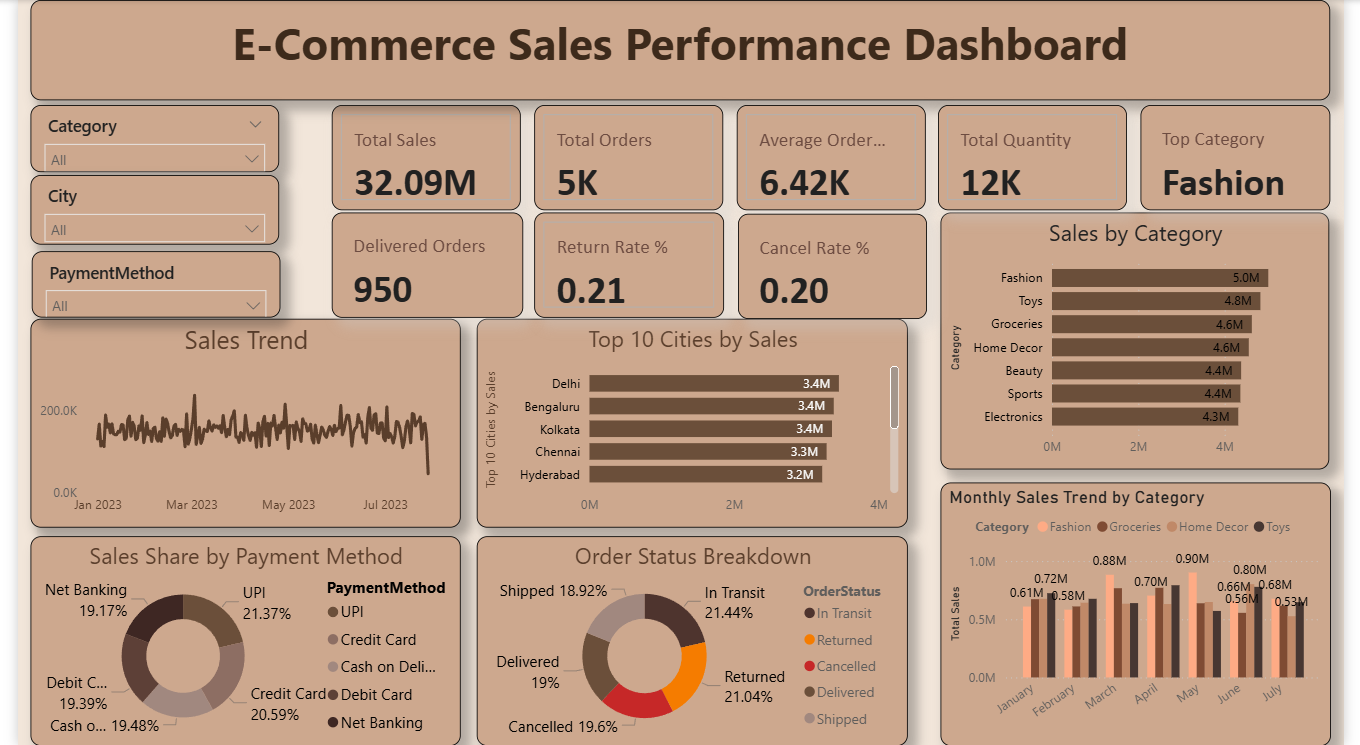

What the dashboard file says about the page in this screenshot:
{"tool":"powerbi","page":{"name":"Page 1","canvas":[1280,720],"ordinal":0},"visuals":[{"type":"cardVisual","fields":{"Data":["M_Measures.Total Sales"]},"box":[303.3,101.5,182.2,101.5],"z":0},{"type":"lineChart","title":"Sales Trend","fields":{"Y":["M_Measures.Total Sales"],"Category":["LocalDateTable_6a9ee4b6-a6cd-4158-997e-67d0aa9aa87c.Date"]},"box":[12.1,307.6,415,201.5],"z":1000},{"type":"clusteredBarChart","title":"Sales by Category","fields":{"Category":["ecommerce_india.Category"],"Y":["M_Measures.Total Sales"]},"box":[890.2,205.4,375.4,248.2],"z":2000},{"type":"clusteredBarChart","title":"Top 10 Cities by Sales","fields":{"Y":["M_Measures.Total Sales"],"Category":["ecommerce_india.City"]},"box":[442.8,307.6,416.2,201.5],"z":3000},{"type":"donutChart","title":"Sales Share by Payment Method","fields":{"Category":["ecommerce_india.PaymentMethod"],"Y":["M_Measures.Total Sales"]},"box":[12.1,517.6,415,202.7],"z":4000},{"type":"donutChart","title":"Order Status Breakdown","fields":{"Y":["M_Measures.Total Orders"],"Category":["ecommerce_india.OrderStatus"]},"box":[442.8,517.6,416.2,202.7],"z":5000},{"type":"textbox","box":[12.2,0,1254.6,96.6],"z":6000},{"type":"cardVisual","fields":{"Data":["M_Measures.Total Orders"]},"box":[498.3,101.5,182.2,101.5],"z":7000},{"type":"cardVisual","fields":{"Data":["M_Measures.Average Order Value"]},"box":[693.3,101.5,182.2,101.5],"z":8000},{"type":"cardVisual","fields":{"Data":["M_Measures.Total Quantity"]},"box":[888.4,101.5,182.2,101.5],"z":9000},{"type":"cardVisual","fields":{"Data":["M_Measures.Top Category"]},"box":[1083.4,101.3,183.4,101.3],"z":10000},{"type":"cardVisual","fields":{"Data":["M_Measures.Delivered Orders"]},"box":[302.8,205.1,184.6,101.3],"z":11000},{"type":"cardVisual","fields":{"Data":["M_Measures.Return Rate %"]},"box":[498.3,205.1,183.4,101.3],"z":12000},{"type":"cardVisual","fields":{"Data":["M_Measures.Cancel Rate %"]},"box":[694.6,206.7,182.2,101.5],"z":13000},{"type":"slicer","fields":{"Values":["ecommerce_india.Category"]},"box":[12.1,101.3,240.1,65.1],"z":14000},{"type":"slicer","fields":{"Values":["ecommerce_india.City"]},"box":[12.1,168.9,240.1,67.6],"z":15000},{"type":"slicer","fields":{"Values":["ecommerce_india.PaymentMethod"]},"box":[13.3,242.5,240.1,63.9],"z":16000},{"type":"clusteredColumnChart","title":"Monthly Sales Trend by Category","fields":{"Series":["ecommerce_india.Category"],"Y":["M_Measures.Total Sales"],"Category":["ecommerce_india.OrderDate.Variation.Date Hierarchy.Month"]},"box":[890.2,465.9,376.6,254.3],"z":17000}]}

Visuals, with their boxes in screenshot pixels (x1, y1, x2, y2), scaled from the page's 1280x720 canvas onto the 1360x745 screenshot:
cardVisual - M_Measures.Total Sales: [left=322, top=105, right=516, bottom=210]
"Sales Trend" lineChart: [left=13, top=318, right=454, bottom=527]
"Sales by Category" clusteredBarChart: [left=946, top=213, right=1345, bottom=469]
"Top 10 Cities by Sales" clusteredBarChart: [left=470, top=318, right=913, bottom=527]
"Sales Share by Payment Method" donutChart: [left=13, top=536, right=454, bottom=744]
"Order Status Breakdown" donutChart: [left=470, top=536, right=913, bottom=744]
textbox: [left=13, top=0, right=1346, bottom=100]
cardVisual - M_Measures.Total Orders: [left=529, top=105, right=723, bottom=210]
cardVisual - M_Measures.Average Order Value: [left=737, top=105, right=930, bottom=210]
cardVisual - M_Measures.Total Quantity: [left=944, top=105, right=1138, bottom=210]
cardVisual - M_Measures.Top Category: [left=1151, top=105, right=1346, bottom=210]
cardVisual - M_Measures.Delivered Orders: [left=322, top=212, right=518, bottom=317]
cardVisual - M_Measures.Return Rate %: [left=529, top=212, right=724, bottom=317]
cardVisual - M_Measures.Cancel Rate %: [left=738, top=214, right=932, bottom=319]
slicer - ecommerce_india.Category: [left=13, top=105, right=268, bottom=172]
slicer - ecommerce_india.City: [left=13, top=175, right=268, bottom=245]
slicer - ecommerce_india.PaymentMethod: [left=14, top=251, right=269, bottom=317]
"Monthly Sales Trend by Category" clusteredColumnChart: [left=946, top=482, right=1346, bottom=744]
